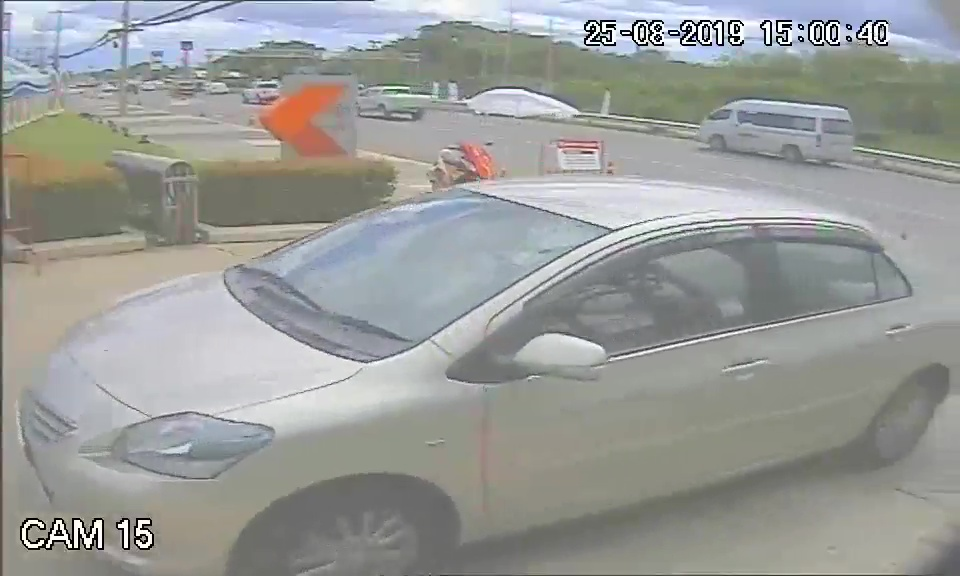sedan: (15, 175, 953, 564)
